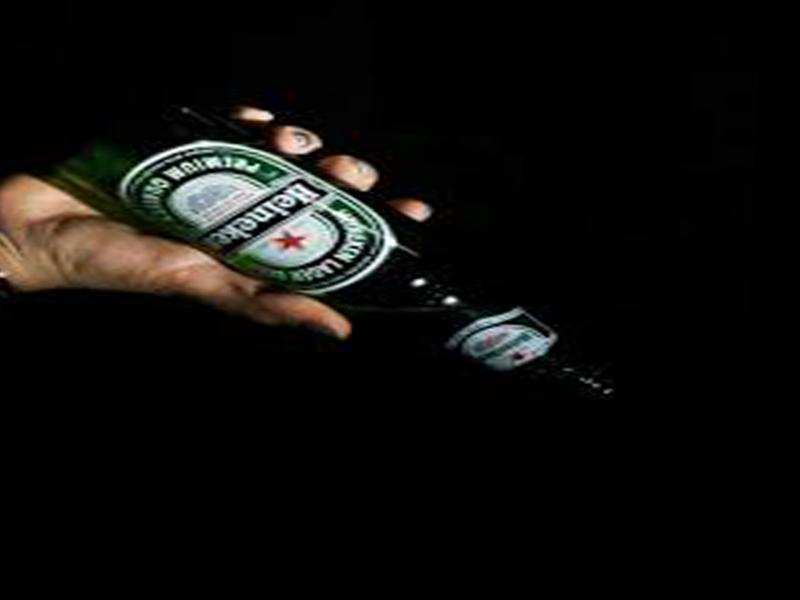Beer: (18, 88, 648, 408)
